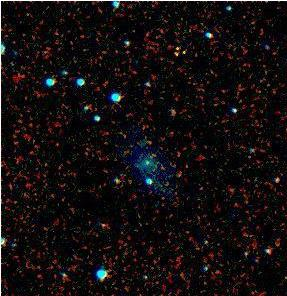star: (165, 159, 195, 189)
